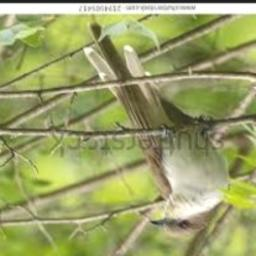Cuckoo: (82, 24, 228, 237)
